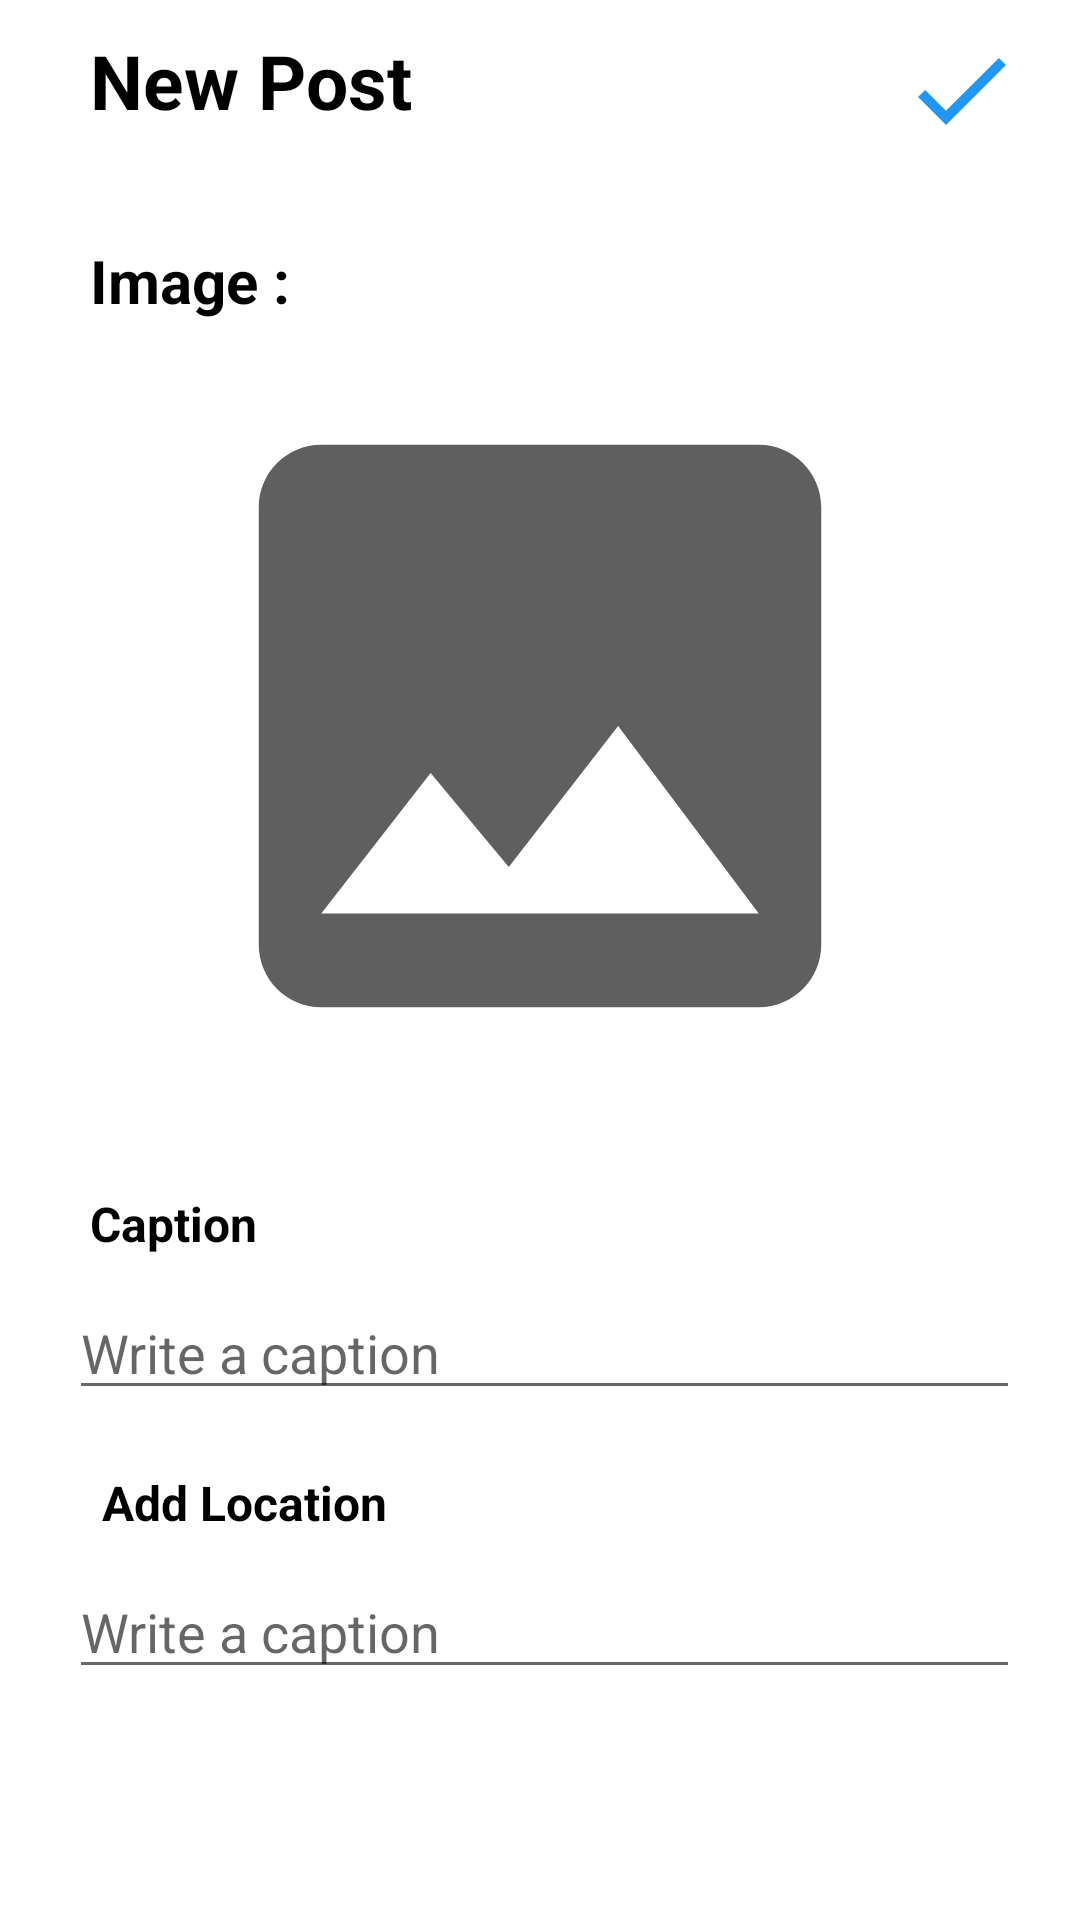

Icon bounding boxes for this 1080px x 1920px phone screenshot, format (x1=x1, y1=y1, x2=x2, y2=y2):
check: (x1=918, y1=58, x2=1006, y2=125)
